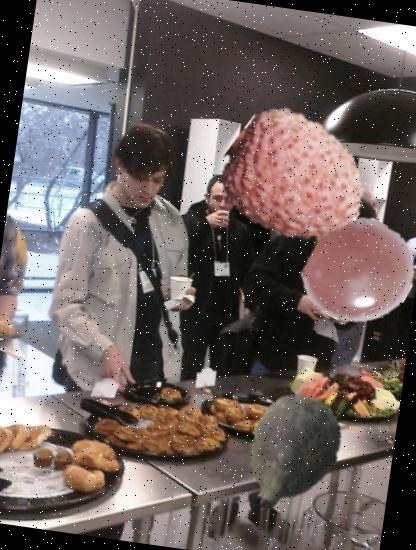Beetroot: (222, 383, 364, 524)
Lychee: (214, 100, 376, 262)
Redcurrant: (299, 211, 416, 333)
